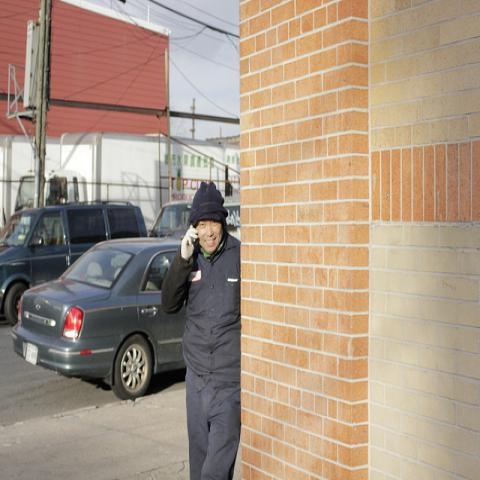car: (10, 232, 185, 401), (0, 204, 148, 328), (148, 199, 193, 241)
truck: (1, 200, 149, 327)
